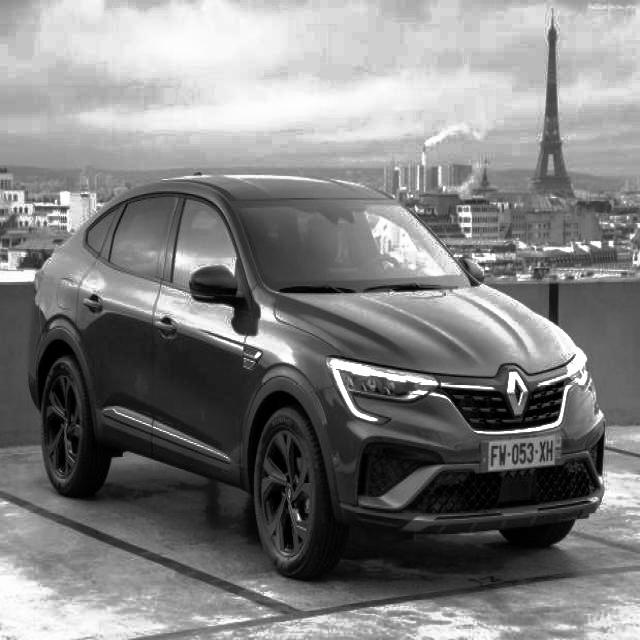Car: (24, 178, 610, 594)
